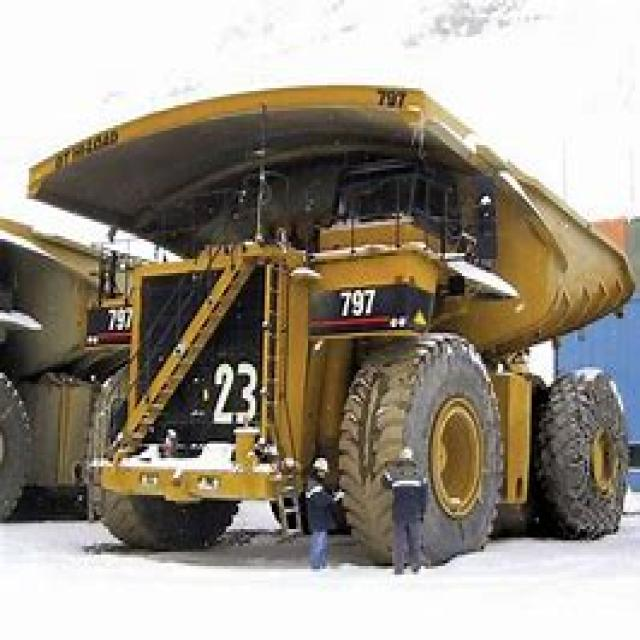dump_truck: (12, 71, 618, 566)
